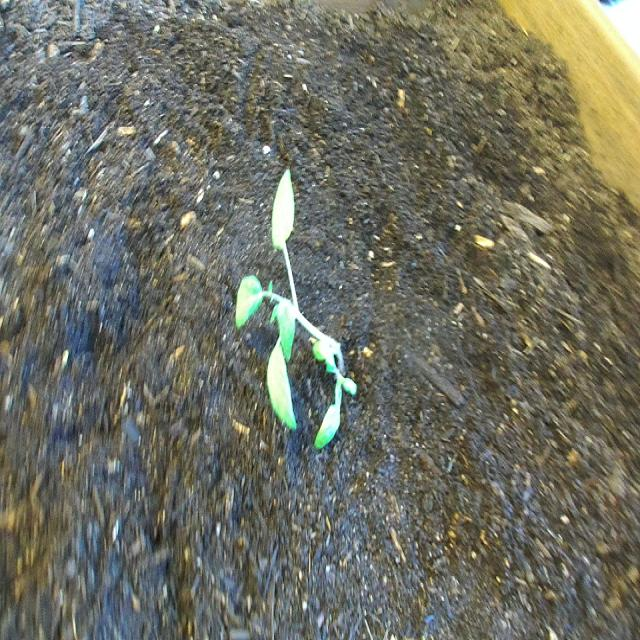Healthy: (230, 142, 371, 468)
